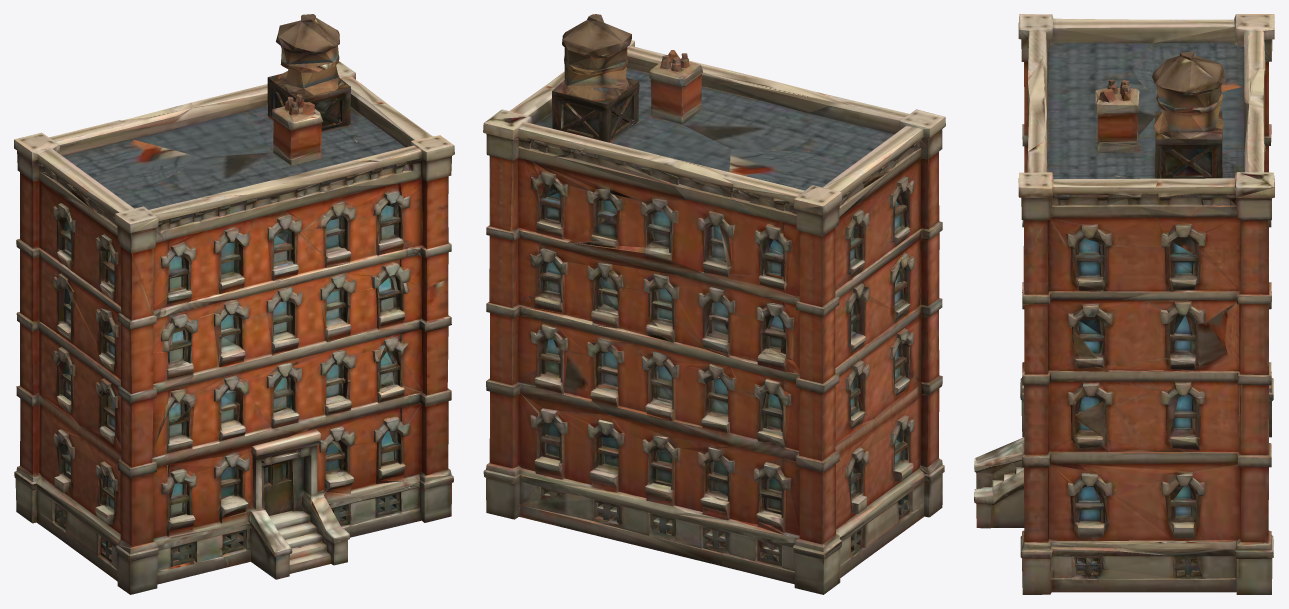
File: town_flats_4.glb
The picture shows the model from 3 angles, left to right: view 1: azimuth 30°, elevation 25°; view 2: azimuth 150°, elevation 25°; view 3: azimuth 270°, elevation 25°; orthographic projection. The views are drawn at different scales.
Visible parts, largest first — view 1: normalize; view 2: normalize; view 3: normalize.
Part boxes in pixels (x1,y1,x2,y2): normalize: [14, 14, 454, 594]; normalize: [483, 14, 945, 594]; normalize: [974, 14, 1274, 594].
Bounding box in the file's own units: 1 × 1.36 × 0.7301.
1 material, 1 textured.
